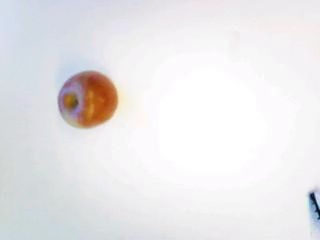apple: (54, 69, 119, 127)
